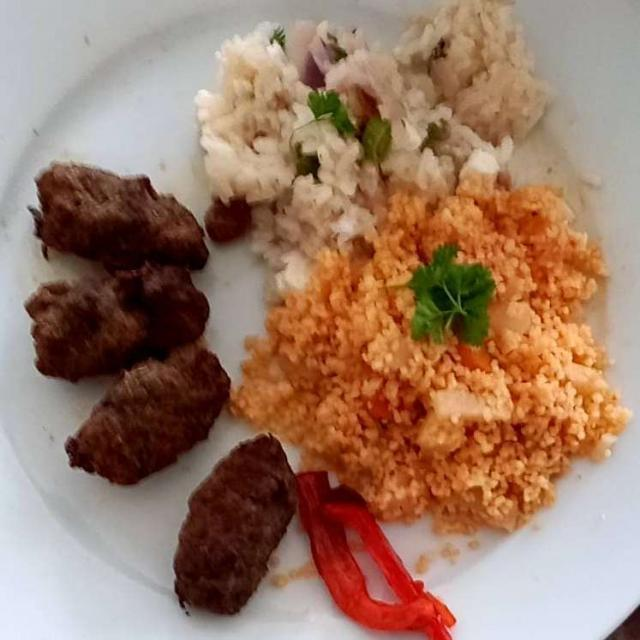bell-pepper: (297, 475, 450, 634)
cheese: (274, 144, 522, 531)
couscous: (249, 187, 615, 530)
meat-balls: (33, 166, 281, 611)
parsley: (270, 80, 505, 363)
raisins: (207, 194, 255, 237)
rice: (203, 10, 537, 262)
